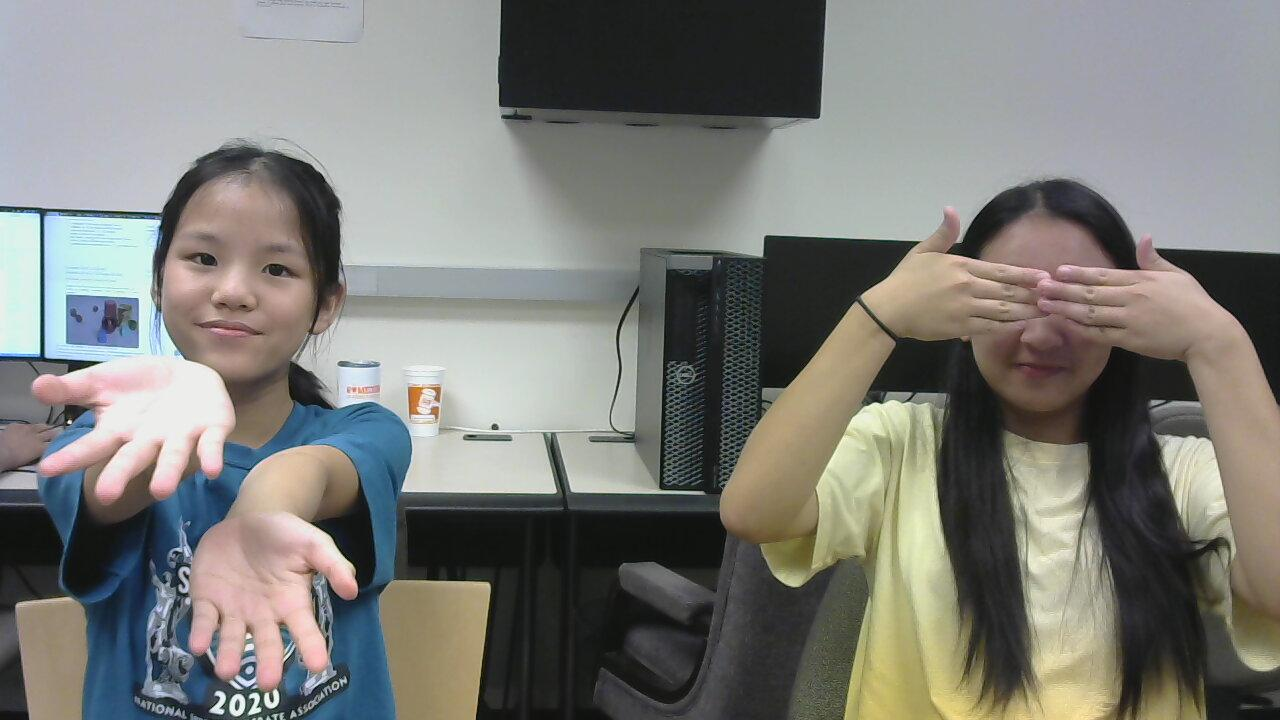hands: (171, 499, 374, 686), (26, 339, 239, 513), (856, 187, 1049, 355), (1048, 227, 1234, 375)
